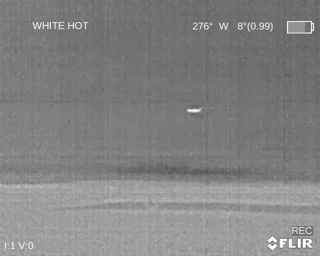AIRPLANE: (185, 105, 203, 115)
